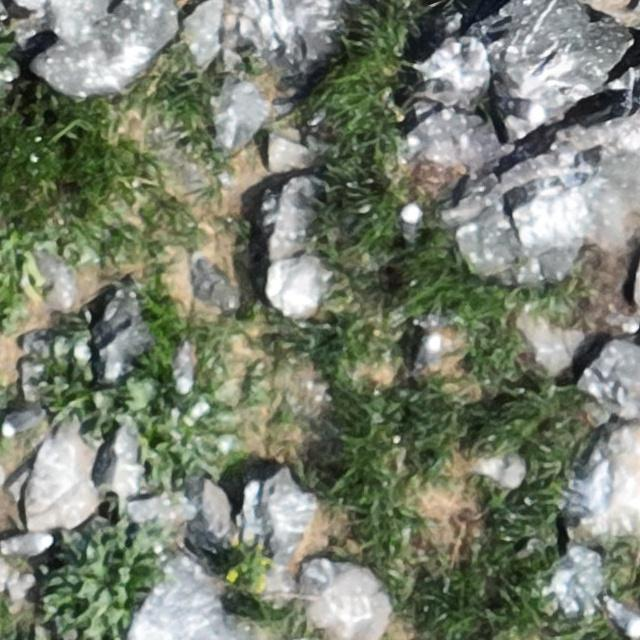umineko: (608, 601, 640, 637), (2, 534, 50, 556), (506, 97, 545, 124), (3, 409, 42, 434), (402, 203, 424, 246), (415, 336, 441, 369), (175, 350, 195, 392)
